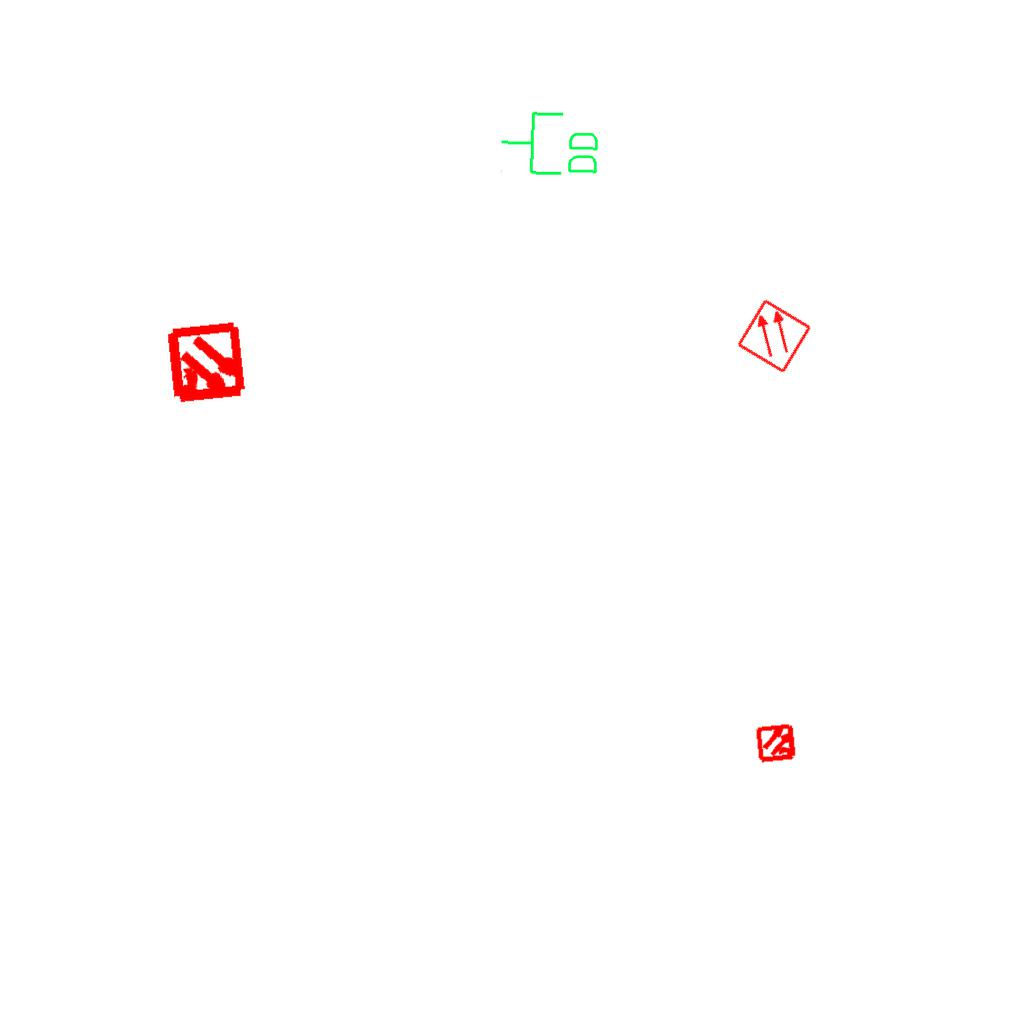Datenanschluss_zweifach: (497, 108, 604, 181)
OT_Multisensormelder_(Kombination_RMO_WMD): (144, 302, 269, 427), (746, 712, 808, 774)
RMO_Rauchmelder_optischer: (735, 297, 813, 375)
